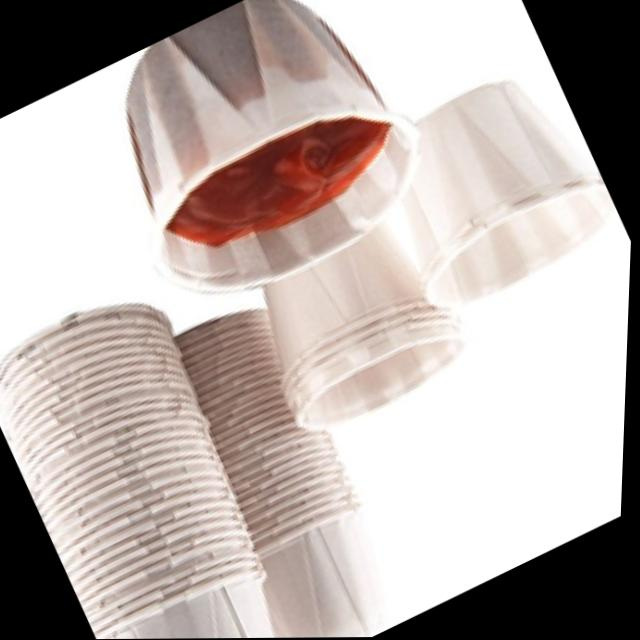paper_cups: (69, 0, 456, 333), (353, 52, 633, 323), (236, 203, 491, 445), (58, 468, 324, 640), (207, 436, 423, 639)
